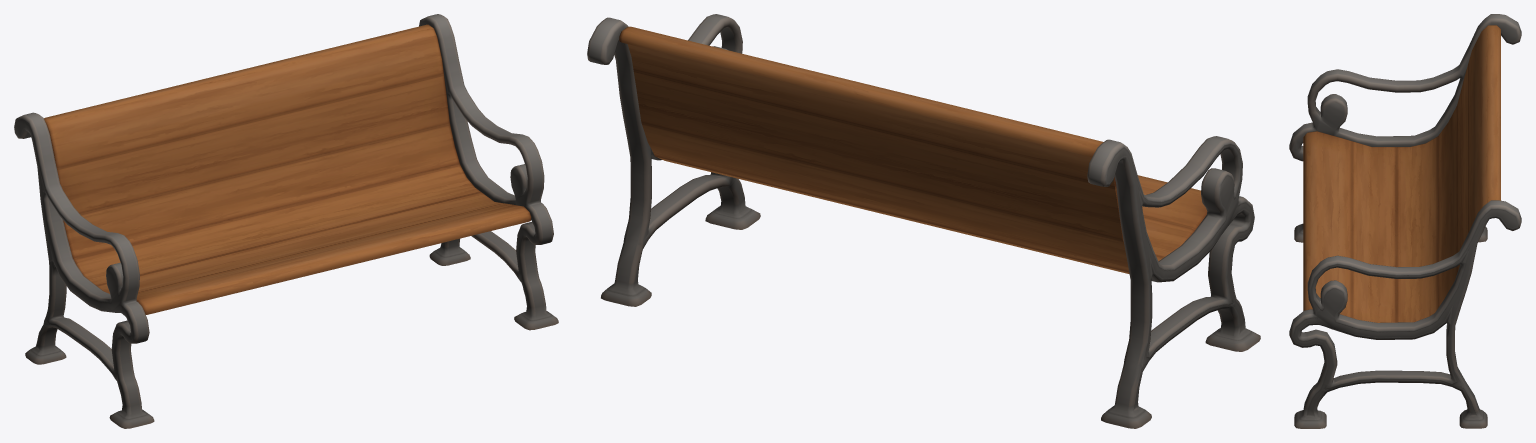
The model's file is ParkBench01.FBX.
The picture shows the model from 3 angles, left to right: view 1: azimuth 30°, elevation 25°; view 2: azimuth 150°, elevation 25°; view 3: azimuth 270°, elevation 25°; orthographic projection. The views are drawn at different scales.
Parts seen in each view (by area): view 1: ParkBench01; view 2: ParkBench01; view 3: ParkBench01.
Boxes of the visible parts, x1,y1,x2,y2 form: ParkBench01: (14,14,558,428); ParkBench01: (587,14,1260,428); ParkBench01: (1289,14,1521,428).
Size of what is drawn, in the model's own units: 2.8 by 1.41 by 1.36.
